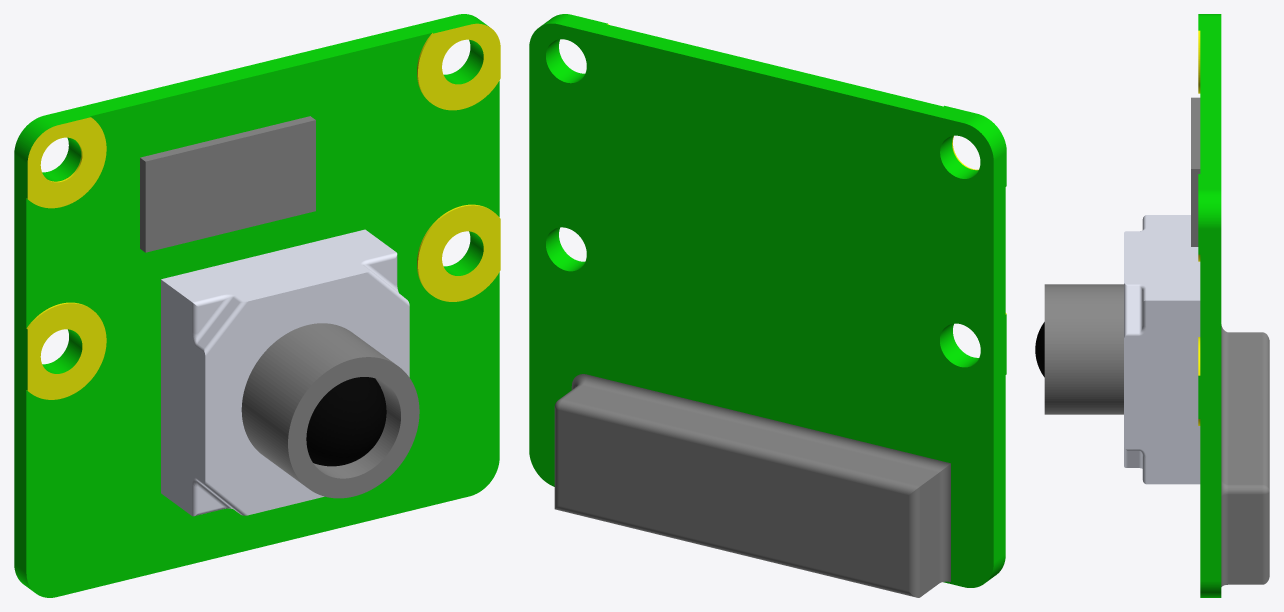
File: Pi camera module3.glb
The picture shows the model from 3 angles, left to right: view 1: azimuth 30°, elevation 25°; view 2: azimuth 150°, elevation 25°; view 3: azimuth 270°, elevation 25°; orthographic projection. The views are drawn at different scales.
Parts seen in each view (by area): view 1: Node4, Node3, Node1, Node2, Node5; view 2: Node4, Node1; view 3: Node1, Node3, Node4, Node5, Node2.
Part boxes in pixels (<box>): Node4: <box>14,14,499,597</box>; Node3: <box>161,229,409,516</box>; Node1: <box>140,116,419,498</box>; Node2: <box>26,23,500,399</box>; Node5: <box>306,377,386,466</box>; Node4: <box>529,14,1006,587</box>; Node1: <box>554,374,950,597</box>; Node1: <box>1044,97,1269,586</box>; Node3: <box>1124,215,1200,484</box>; Node4: <box>1198,14,1221,597</box>; Node5: <box>1035,322,1044,377</box>; Node2: <box>1198,30,1200,425</box>.
Size of the model in its own units: 25 by 23.86 by 12.5.
